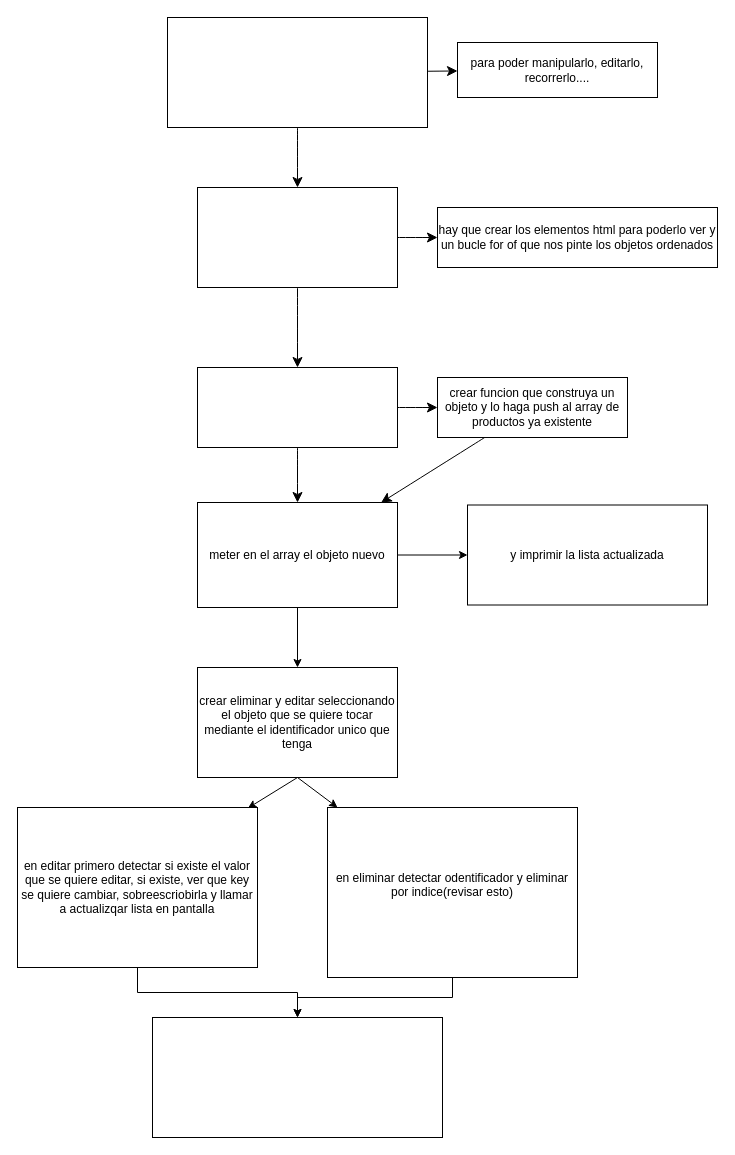
Image size: 735x1155. Some labels were removed from this diagram. The box of each missing label's shape, as (x1, y1, x2, y2) in pixels:
ajustar que se borre el ul antes de volver a imprimir actualizados los datos: (152, 1016, 442, 1138)
convertir el JSON en array: (166, 16, 428, 128)
crear un objeto nuevo: (196, 366, 398, 448)
mostrar productos: (196, 186, 398, 288)
